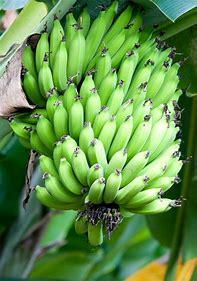banana: (16, 8, 189, 239), (18, 77, 180, 245)
